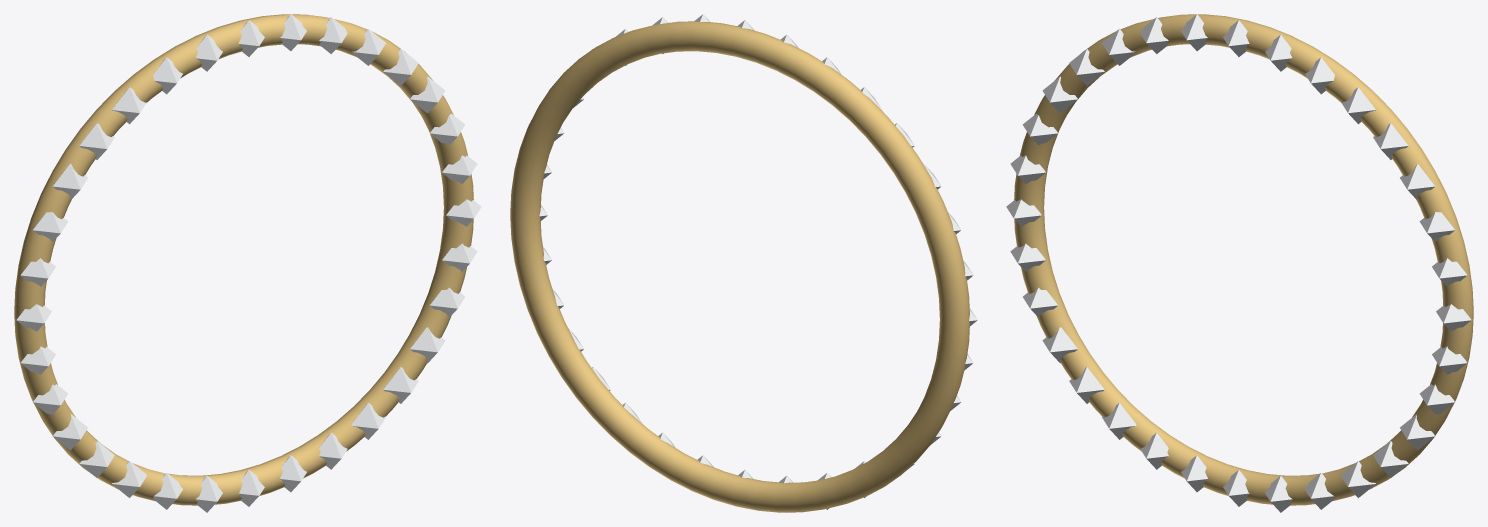
The picture shows the model from 3 angles, left to right: view 1: azimuth 30°, elevation 25°; view 2: azimuth 150°, elevation 25°; view 3: azimuth 330°, elevation 25°; orthographic projection.
Size of the model in its own units: 1.95 by 1.95 by 0.165.
